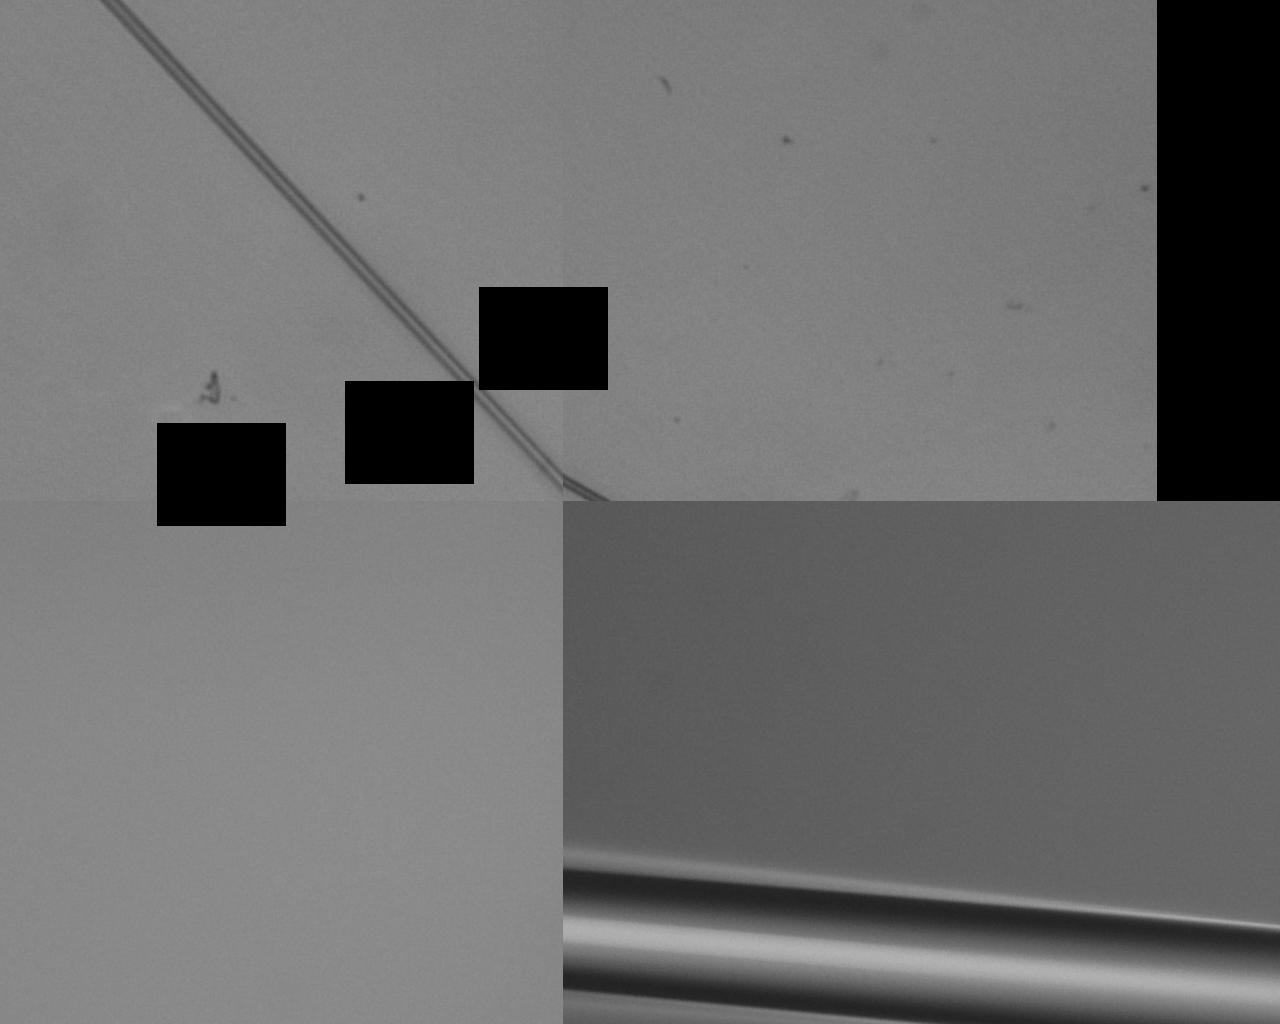fiber: (101, 0, 563, 496), (563, 863, 1280, 1024)
